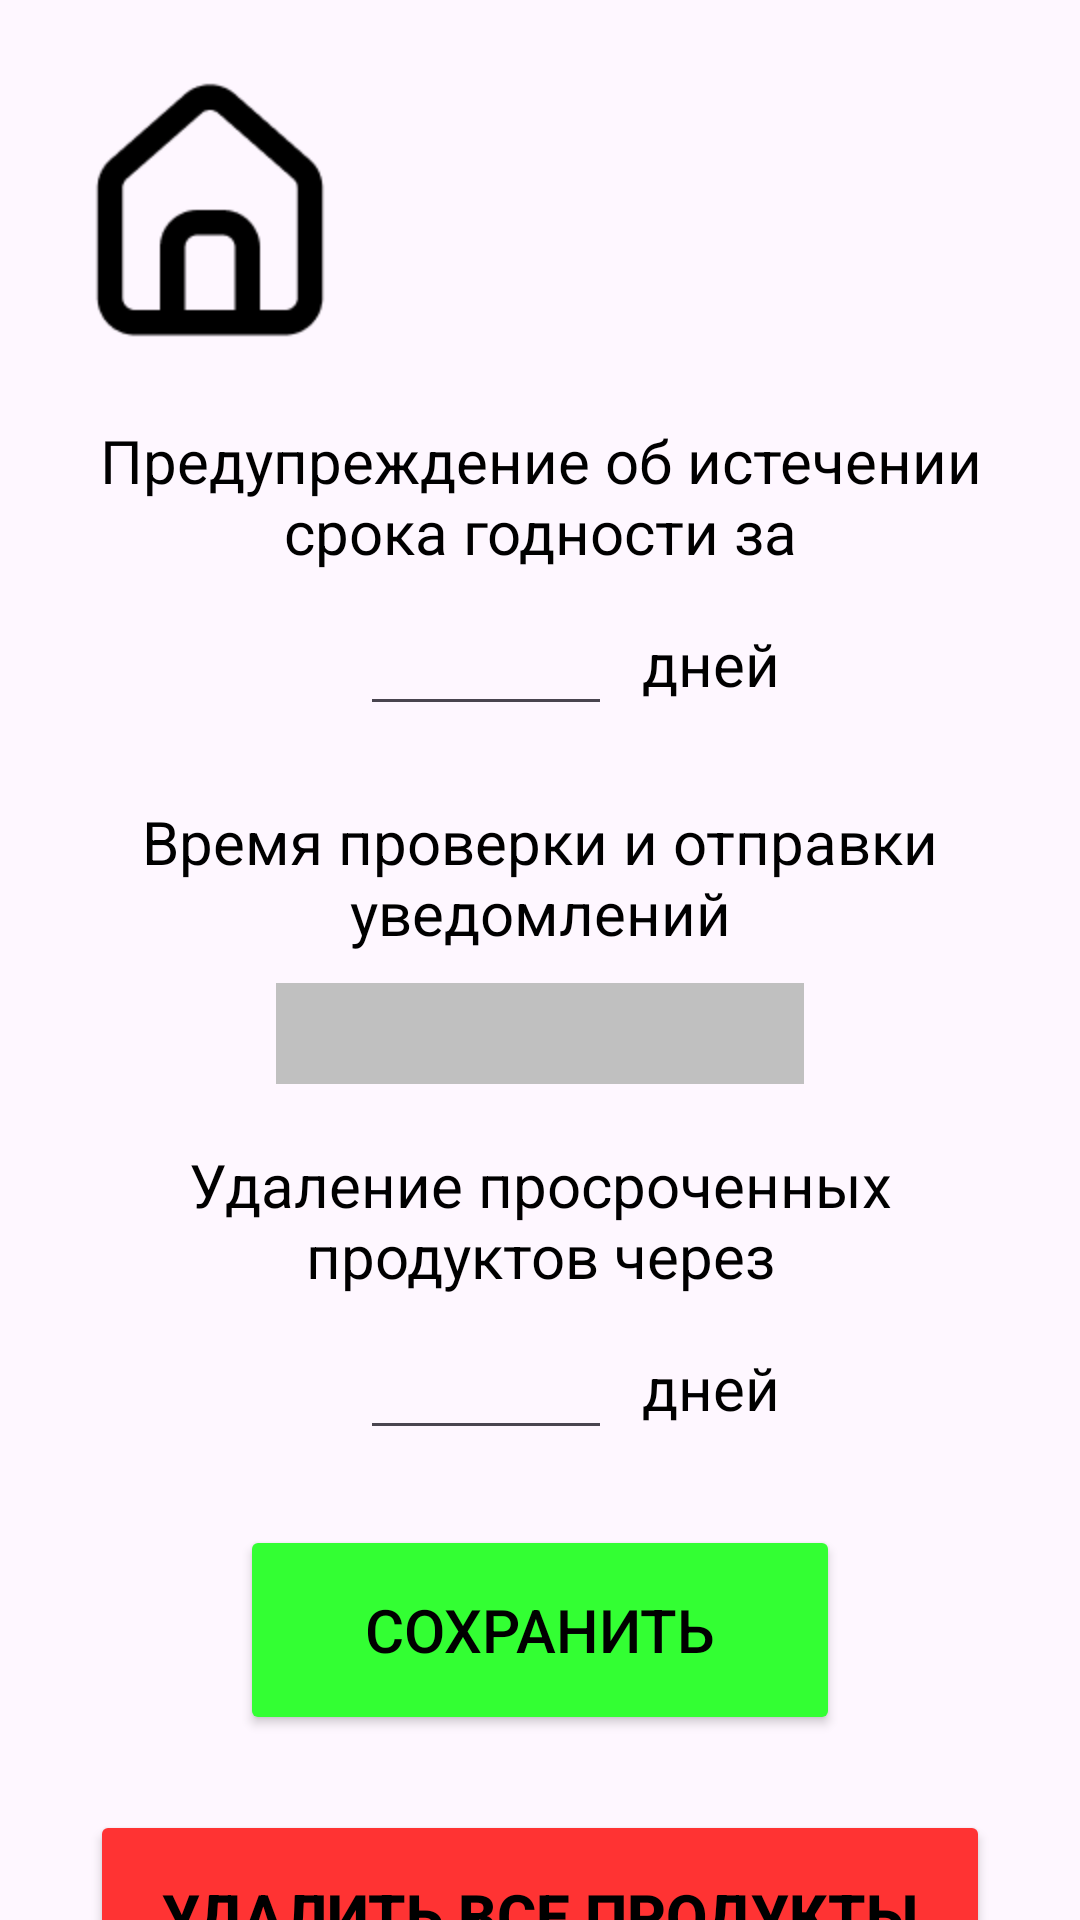

Named icons in this screenshot (1080*1920) and their centers, (x=x, y=y):
home: (x=210, y=210)
